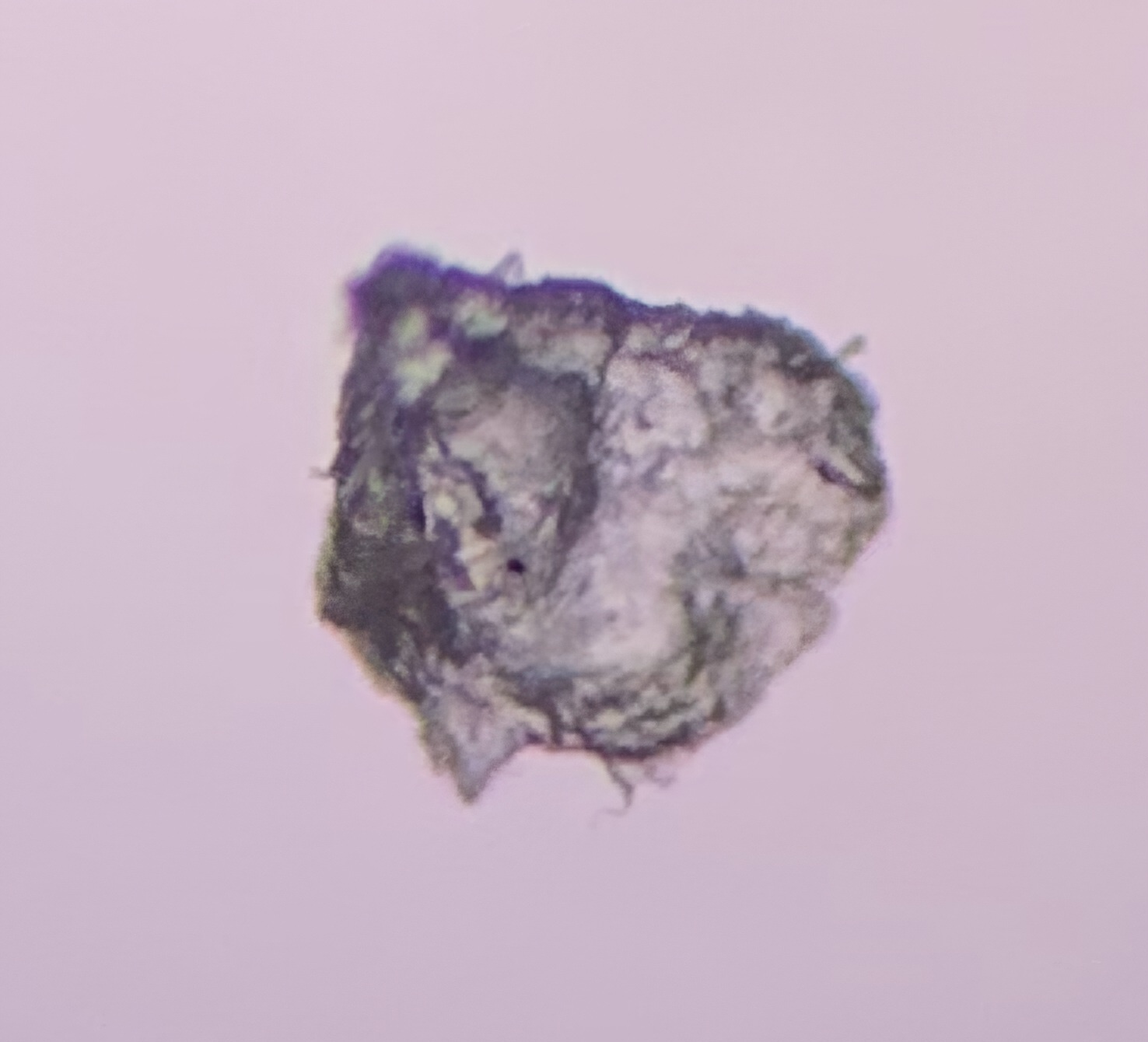microplastic: (310, 241, 896, 814)
